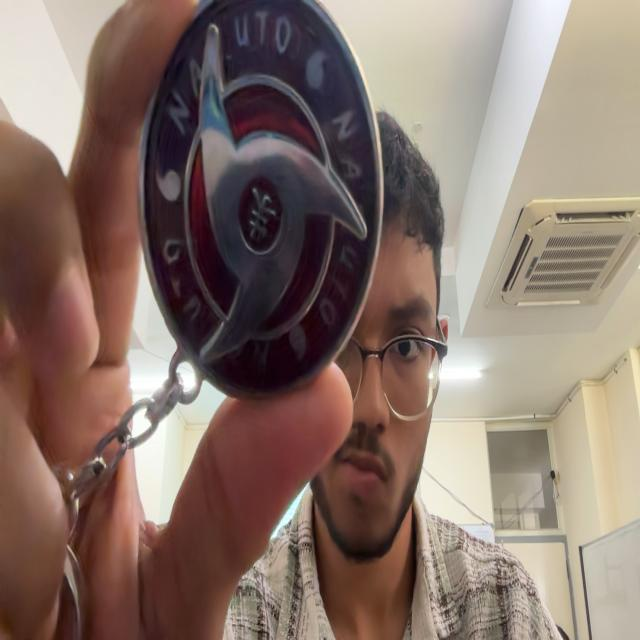dangerous: (71, 0, 383, 516)
